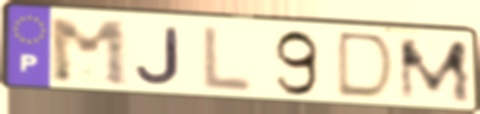9: (272, 29, 322, 98)
D: (333, 29, 399, 103)
J: (133, 25, 183, 87)
L: (199, 24, 256, 96)
M: (45, 17, 132, 89), (395, 38, 475, 105)
